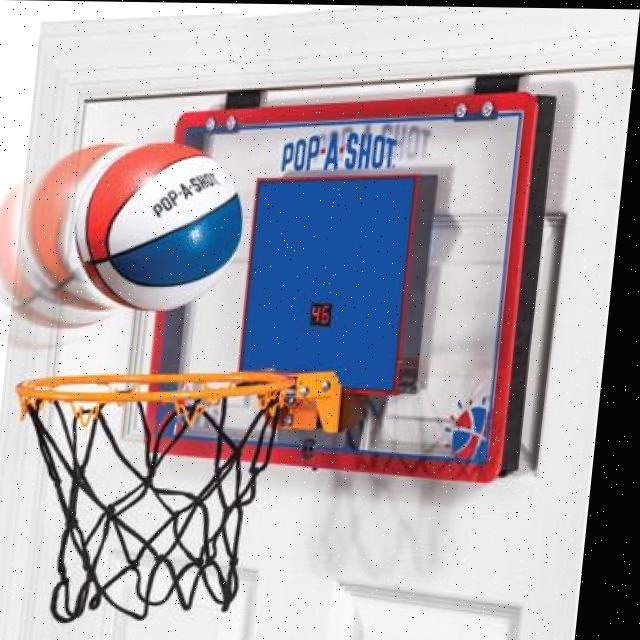Basketball: (65, 139, 251, 311)
hoop: (0, 369, 301, 627)
